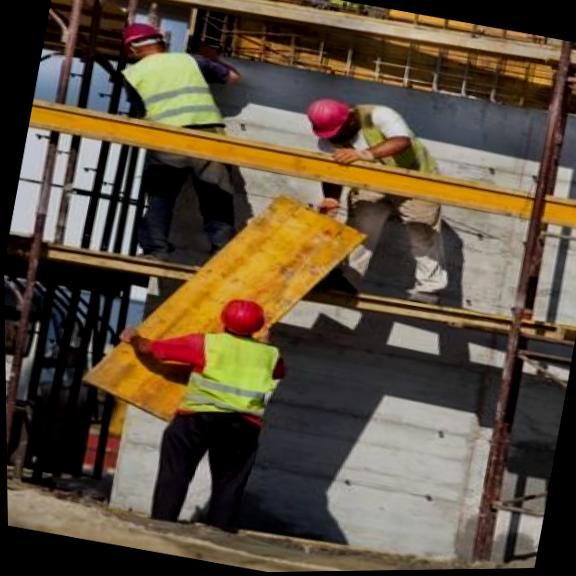safety_vest: (109, 43, 229, 135), (185, 331, 288, 429)
